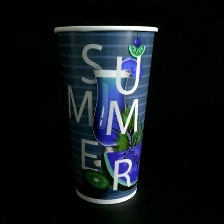paper_cup: (48, 18, 161, 208)
